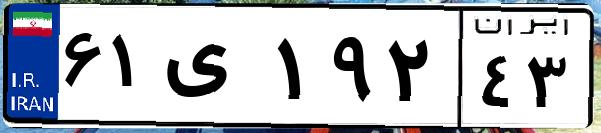1: (270, 28, 330, 110), (110, 28, 158, 98)
2: (385, 28, 445, 110)
3: (525, 38, 570, 115)
4: (475, 38, 525, 113)
6: (57, 26, 110, 100)
9: (330, 28, 385, 110)
ی: (158, 20, 270, 120)
